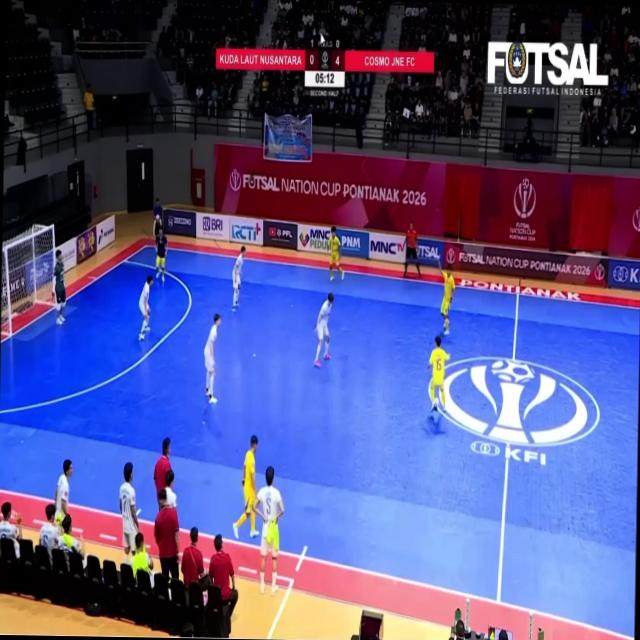keeper: (53, 250, 66, 325), (404, 223, 420, 276), (156, 231, 167, 282)
official: (115, 490, 157, 580), (189, 535, 217, 637), (400, 219, 412, 276)
players: (254, 467, 284, 594), (233, 435, 258, 538), (204, 314, 221, 403), (430, 337, 450, 411), (315, 293, 334, 366), (439, 259, 455, 335), (137, 274, 153, 340), (53, 250, 66, 325), (231, 245, 245, 311), (329, 227, 343, 280), (156, 231, 167, 282)
referee: (404, 223, 420, 276)
